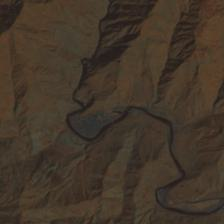landslides: (36, 58, 62, 77), (0, 80, 13, 93)
